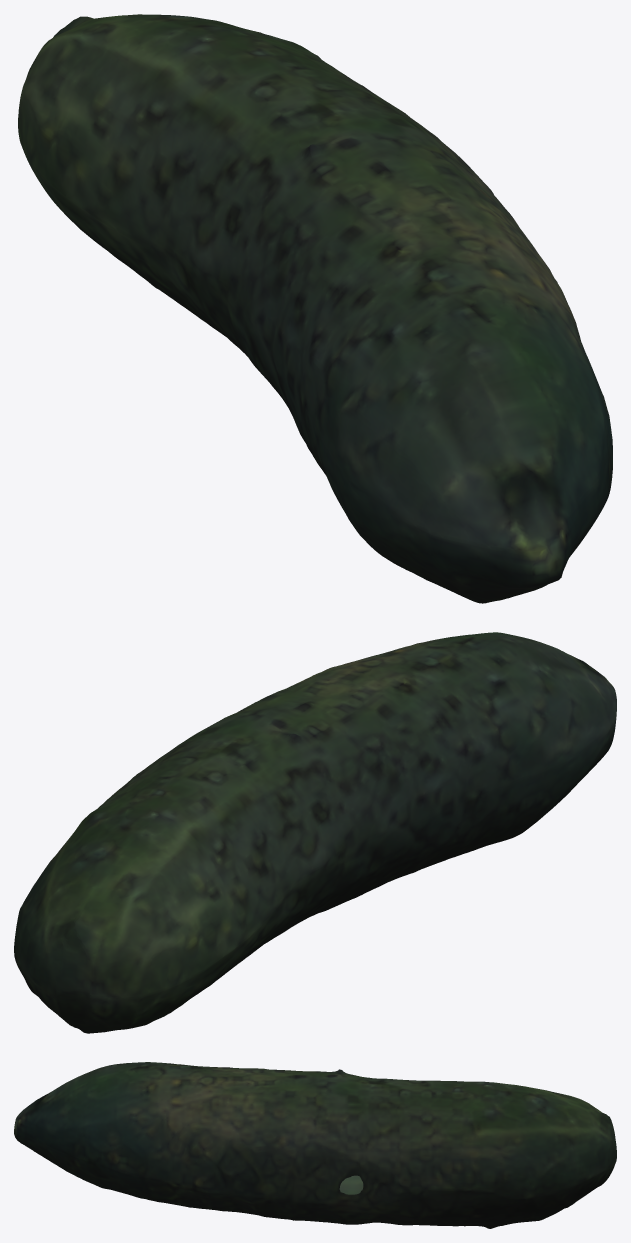
The model's file is obj09_ours.glb.
3 renders of one model, top to bottom at view 1: azimuth 30°, elevation 25°; view 2: azimuth 150°, elevation 25°; view 3: azimuth 270°, elevation 25°, orthographic. The views are drawn at different scales.
Visible parts, largest first — view 1: n1; view 2: n1; view 3: n1.
Boxes of the visible parts, left/top/right/bottom form: n1: left=18, top=14, right=612, bottom=603; n1: left=14, top=632, right=616, bottom=1033; n1: left=14, top=1062, right=616, bottom=1228.
Bounding box in the file's own units: 0.319 × 0.2273 × 0.9002.
